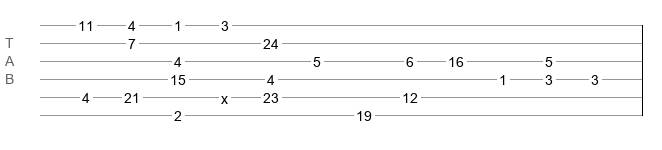1: (174, 18, 182, 28), (499, 72, 507, 82)
11: (78, 18, 94, 28)
12: (402, 90, 418, 100)
15: (170, 72, 186, 82)
16: (448, 54, 464, 64)
19: (356, 108, 372, 118)
2: (174, 108, 182, 118)
21: (124, 90, 140, 100)
23: (263, 90, 279, 100)
24: (263, 36, 279, 46)
3: (221, 18, 229, 28), (545, 72, 553, 82), (591, 72, 599, 82)
4: (82, 90, 90, 100), (128, 18, 136, 28), (174, 54, 182, 64), (267, 72, 275, 82)
5: (313, 54, 321, 64), (545, 54, 553, 64)
6: (406, 54, 414, 64)
7: (128, 36, 136, 46)
x: (221, 91, 228, 99)
